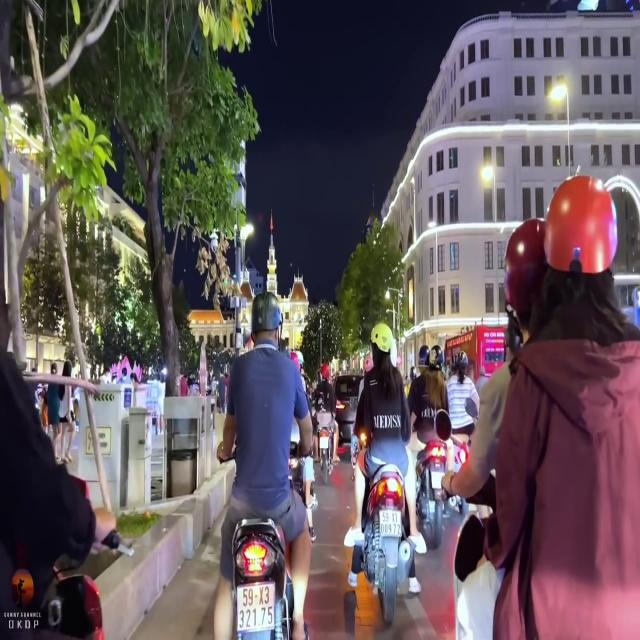bien_trang: (233, 578, 277, 631), (378, 506, 406, 540)
